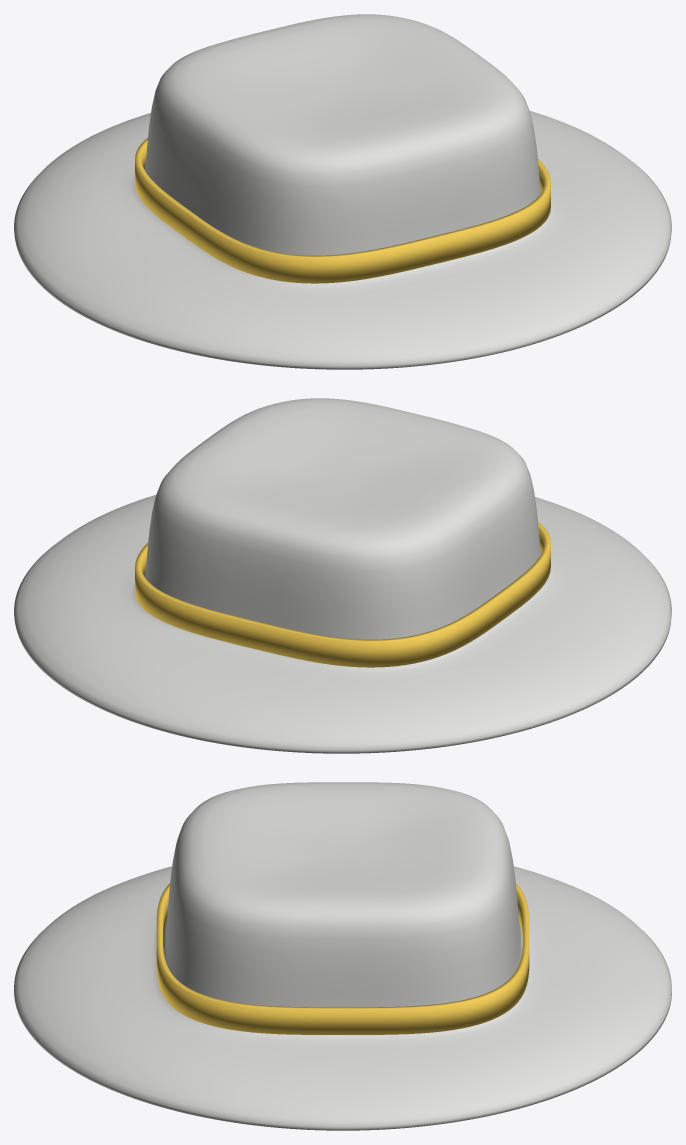
File: WhiteSunHat.glb
The picture shows the model from 3 angles, top to bottom: view 1: azimuth 30°, elevation 25°; view 2: azimuth 150°, elevation 25°; view 3: azimuth 270°, elevation 25°; orthographic projection.
Parts seen in each view (by area): view 1: WhiteSunHat, WhiteSunHat_Band; view 2: WhiteSunHat, WhiteSunHat_Band; view 3: WhiteSunHat, WhiteSunHat_Band.
Boxes of the visible parts, x1,y1,x2,y2 form: WhiteSunHat: (14,14,671,369); WhiteSunHat_Band: (135,138,550,283); WhiteSunHat: (14,398,671,753); WhiteSunHat_Band: (135,522,550,667); WhiteSunHat: (14,782,671,1130); WhiteSunHat_Band: (156,883,529,1034).
Bounding box in the file's own units: 2.61 × 0.6554 × 2.61.
